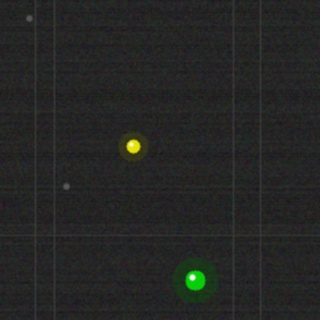green_normal: (183, 268, 207, 292)
yellow_warning: (124, 137, 142, 155)
